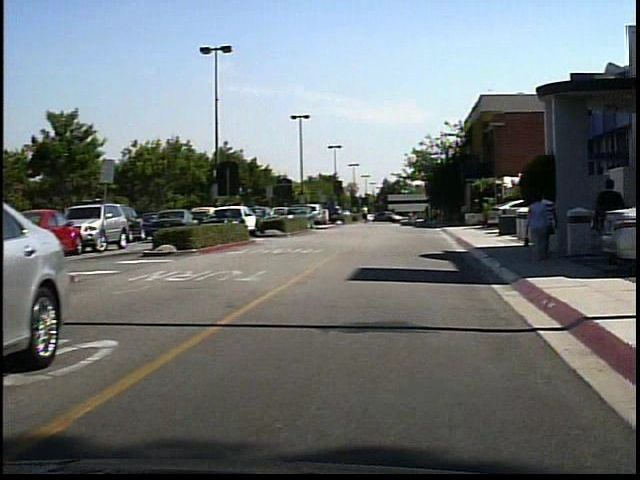person: (596, 171, 633, 265), (533, 190, 561, 266), (547, 189, 566, 261), (367, 202, 376, 226)
